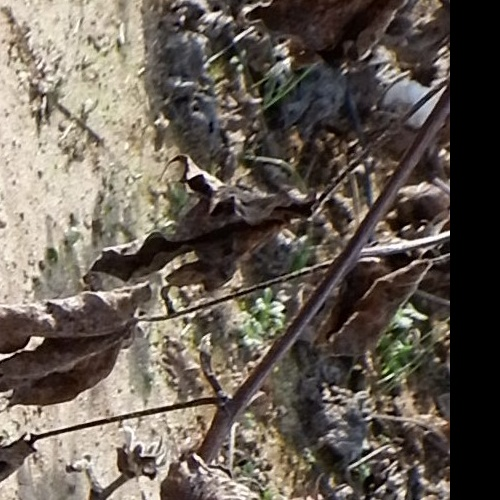immature_boll: (8, 71, 320, 415)
